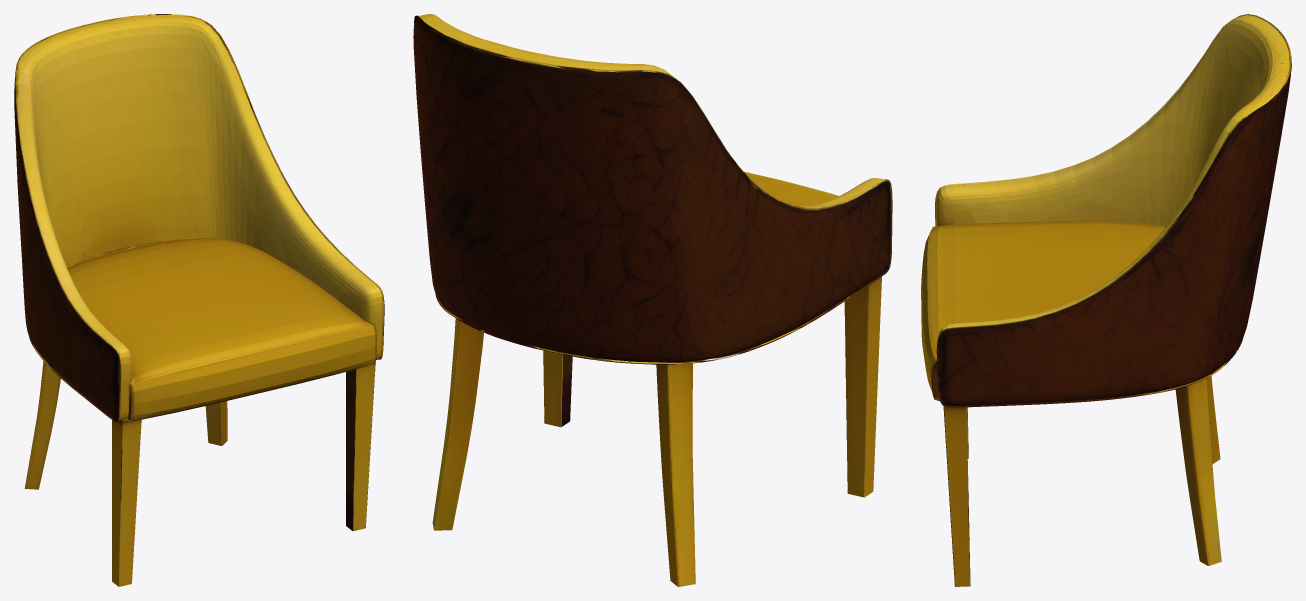
File: edited_mesh.glb
3 renders of one model, left to right at view 1: azimuth 30°, elevation 25°; view 2: azimuth 150°, elevation 25°; view 3: azimuth 270°, elevation 25°, orthographic. The views are drawn at different scales.
Visible parts, largest first — view 1: solid_001_wire; view 2: solid_001_wire; view 3: solid_001_wire.
Part boxes in pixels (x1,y1,x2,y2): solid_001_wire: [14, 14, 384, 586]; solid_001_wire: [413, 14, 892, 586]; solid_001_wire: [921, 14, 1291, 586].
Bounding box in the file's own units: 0.9742 × 1.47 × 1.07.
1 material, 1 textured.
